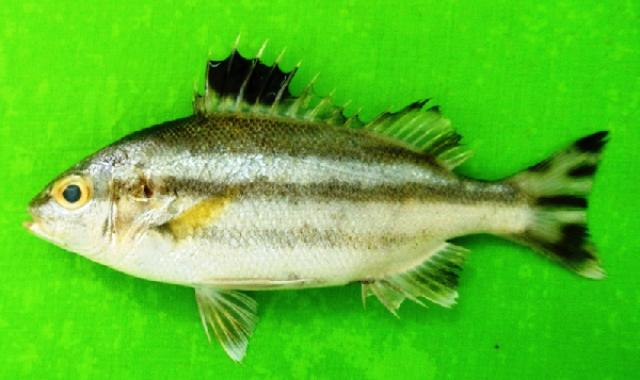Mulut: (17, 186, 55, 256)
Sirip Anal: (359, 235, 471, 322)
Sirip Dada: (160, 170, 266, 262)
Sirip Ekor: (510, 123, 620, 287)
Sirip Perut: (188, 277, 264, 367)
Sirip Punggung: (187, 27, 478, 173)
